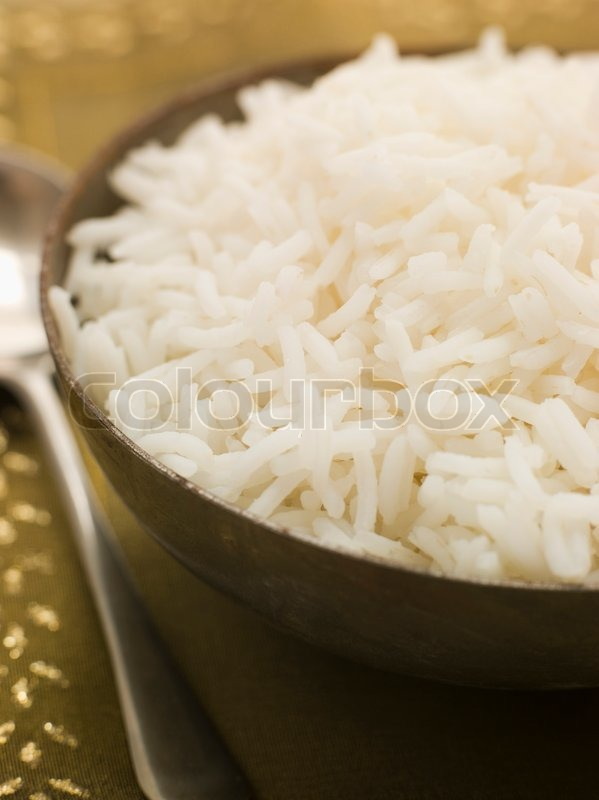plain rice: (69, 57, 599, 573)
